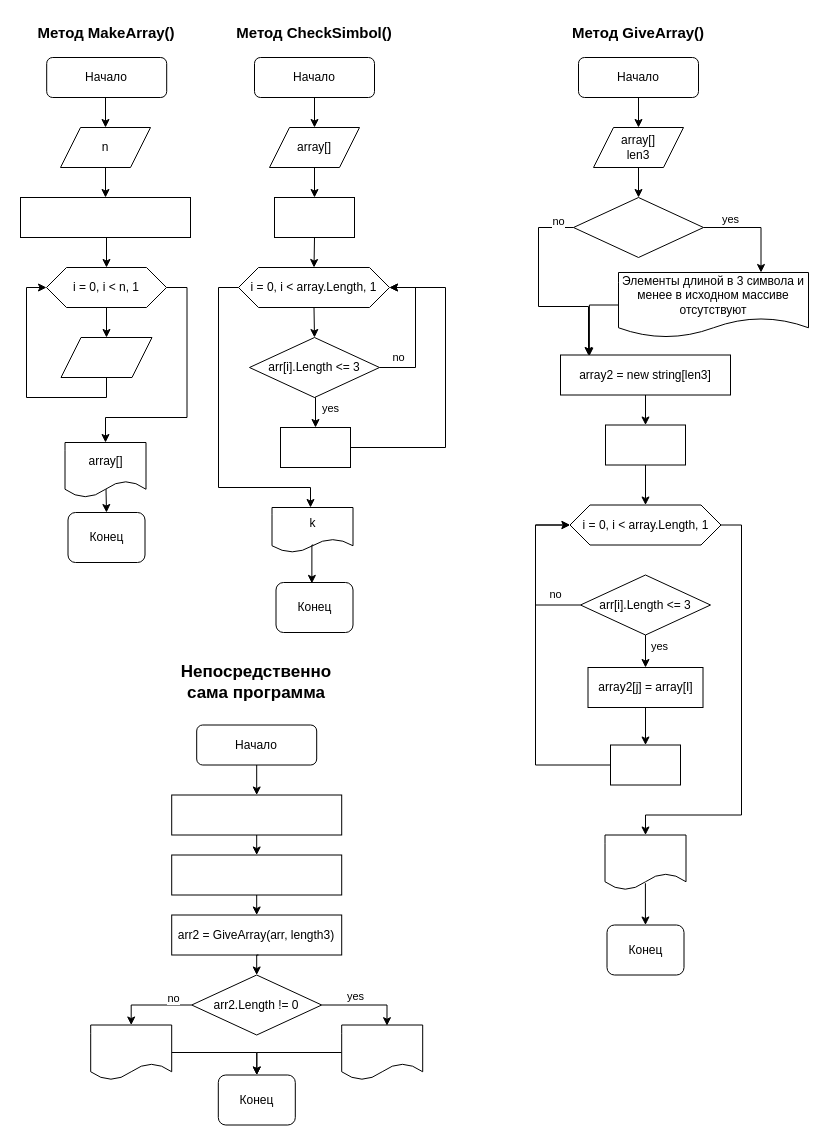
Some shapes in this 827 by 1142 pixel diagram are drawn without their labels. The centre of each missing label's shape, as x and y in pixels:
"arr = MakeArray()" goes at [256,814].
"arr[]" goes at [131,1052].
"arr[] arr2[]" goes at [382,1052].
"array = new string[n]" goes at [105,217].
"array2[]" goes at [645,862].
"array[i]" goes at [106,357].
"j = 0" goes at [645,444].
"j++" goes at [645,764].
"k = 0" goes at [314,217].
"k++" goes at [315,447].
"len3 == 0" goes at [638,227].
"length3 = CheckSimbol(arr)" goes at [256,874].
